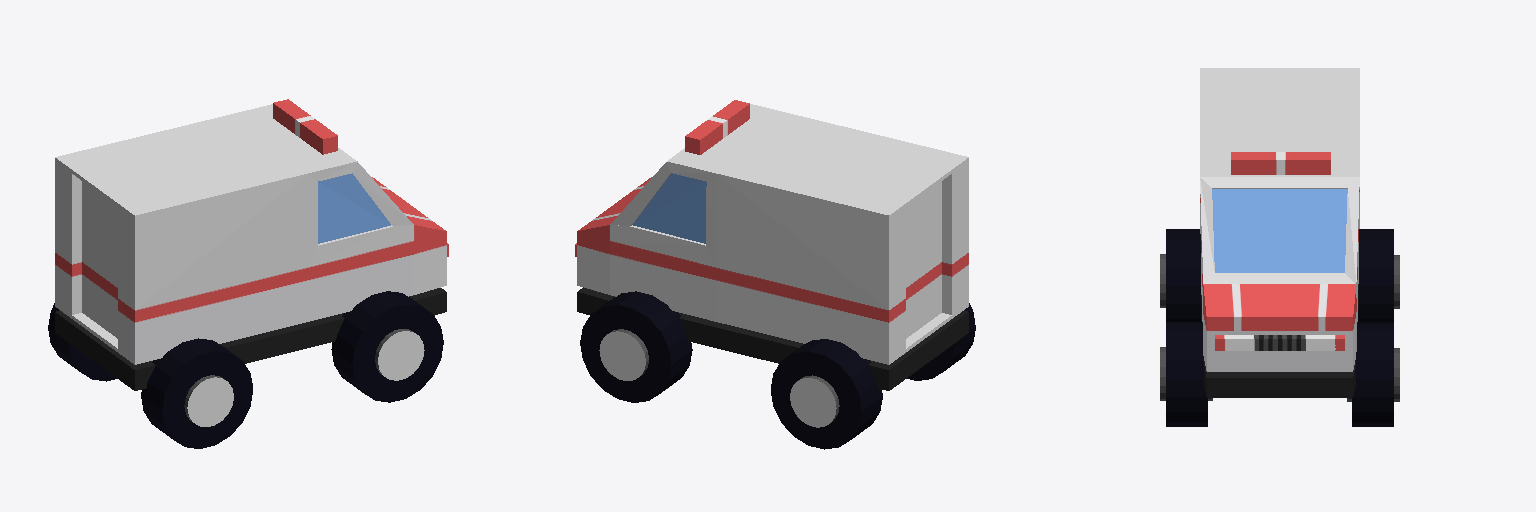
3 renders of one model, left to right at view 1: azimuth 30°, elevation 25°; view 2: azimuth 150°, elevation 25°; view 3: azimuth 270°, elevation 25°, orthographic.
Parts seen in each view (by area): view 1: Object136; view 2: Object136; view 3: Object136.
Part boxes in pixels (x1,y1,x2,y2): Object136: (48,99,448,448); Object136: (575,100,975,449); Object136: (1160,68,1399,426).
Bounding box in the file's own units: 264 × 195 × 170.
1 materials, 1 textured.